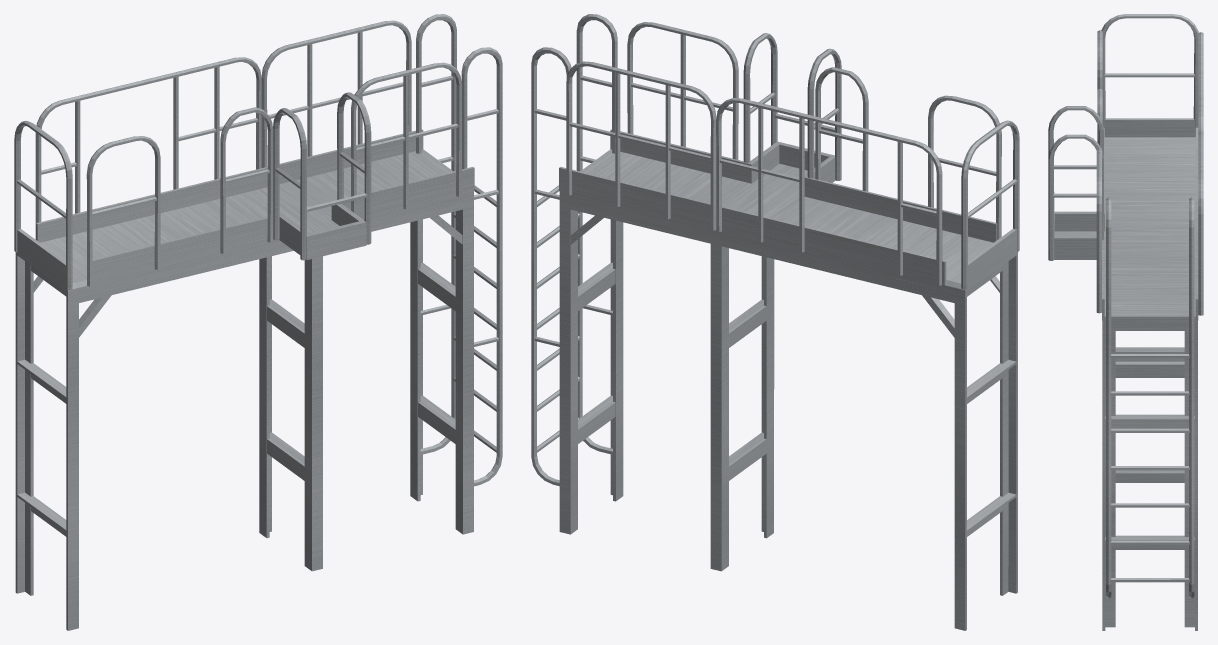
3 renders of one model, left to right at view 1: azimuth 30°, elevation 25°; view 2: azimuth 150°, elevation 25°; view 3: azimuth 270°, elevation 25°, orthographic. The views are drawn at different scales.
Visible parts, largest first — view 1: obj_055; view 2: obj_055; view 3: obj_055.
Part boxes in pixels (box(x1,y1,x2,y2)): obj_055: box(14, 14, 502, 630); obj_055: box(531, 14, 1019, 630); obj_055: box(1048, 14, 1203, 630).
Bounding box in the file's own units: 380 × 396 × 128.
